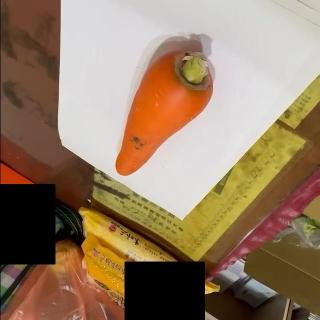carrot: (114, 46, 214, 178)
